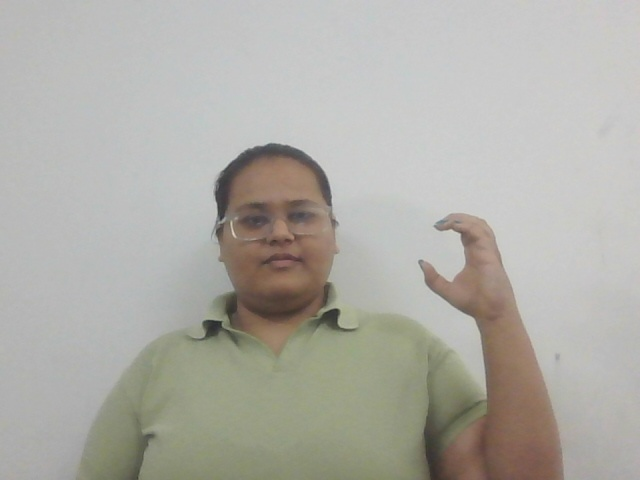C: (415, 208, 515, 320)
